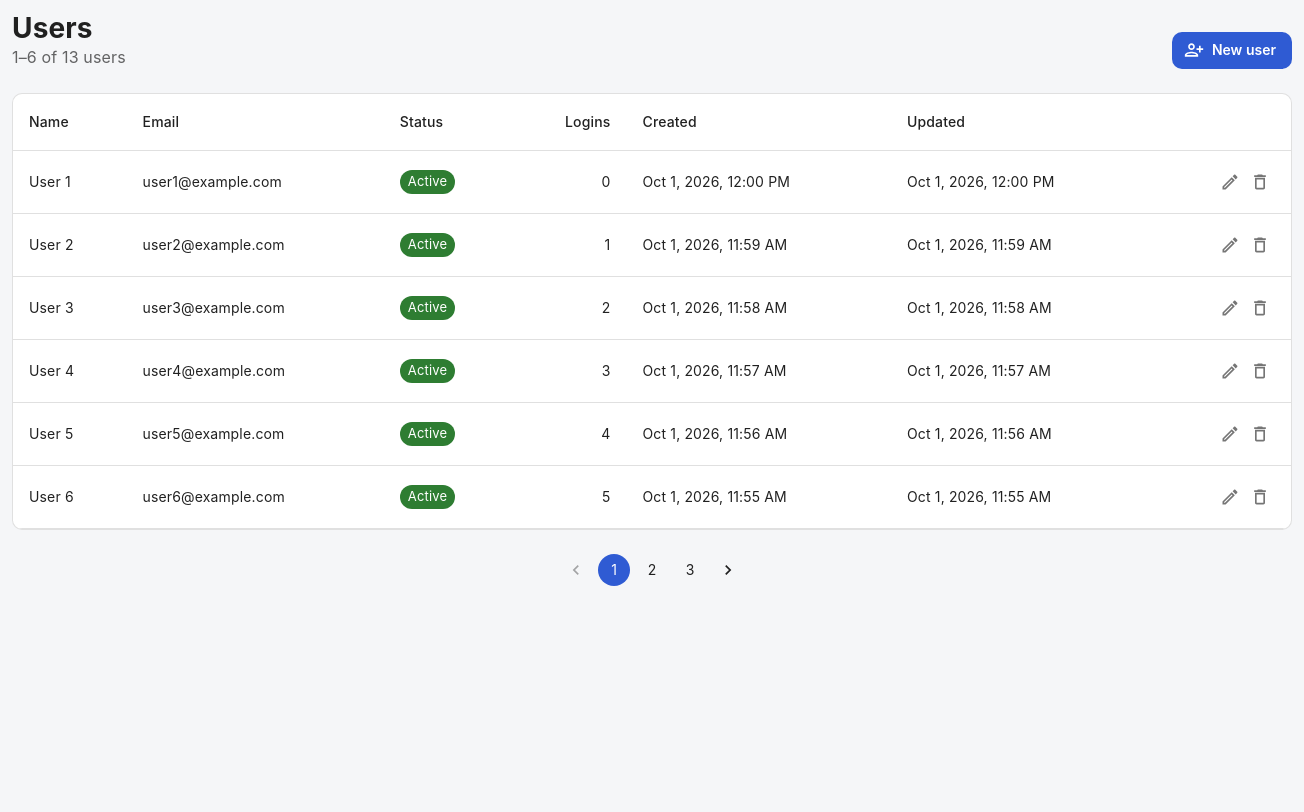
Scenario: UsersDashboard: table and pagination (T7.2) › C3: 13 users → pages of 6 / 6 / 1, page kept in ?page=
Expected: the text "1–6 of 13 users" is shown, 12,45 -> 126,69
Expected: the button named "Go to page 3" is shown, 674,554 -> 706,586
Click the button named "Go to page 2": (652, 570) 636,554 -> 668,586
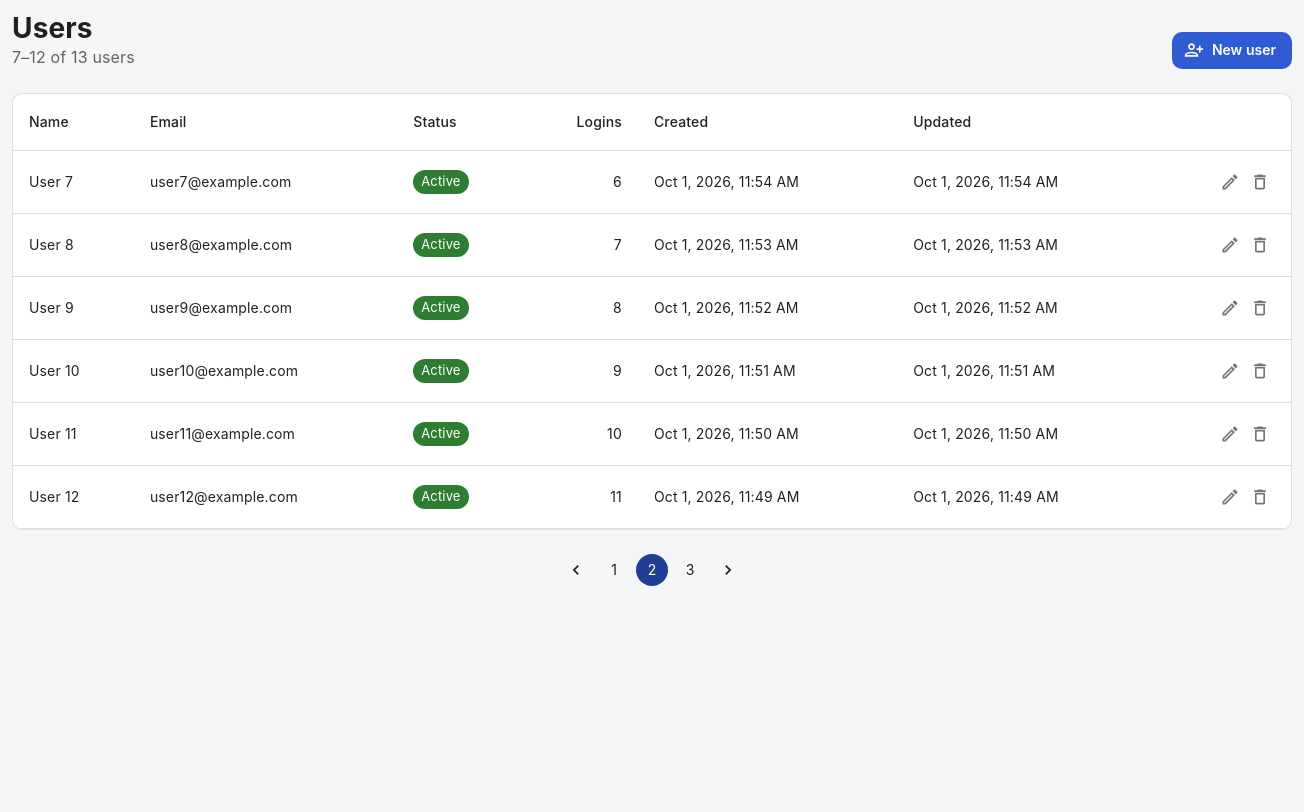
Expected: the text "User 7" is shown, 29,172 -> 73,192
Click the button named "Go to page 3": (690, 570) 674,554 -> 706,586
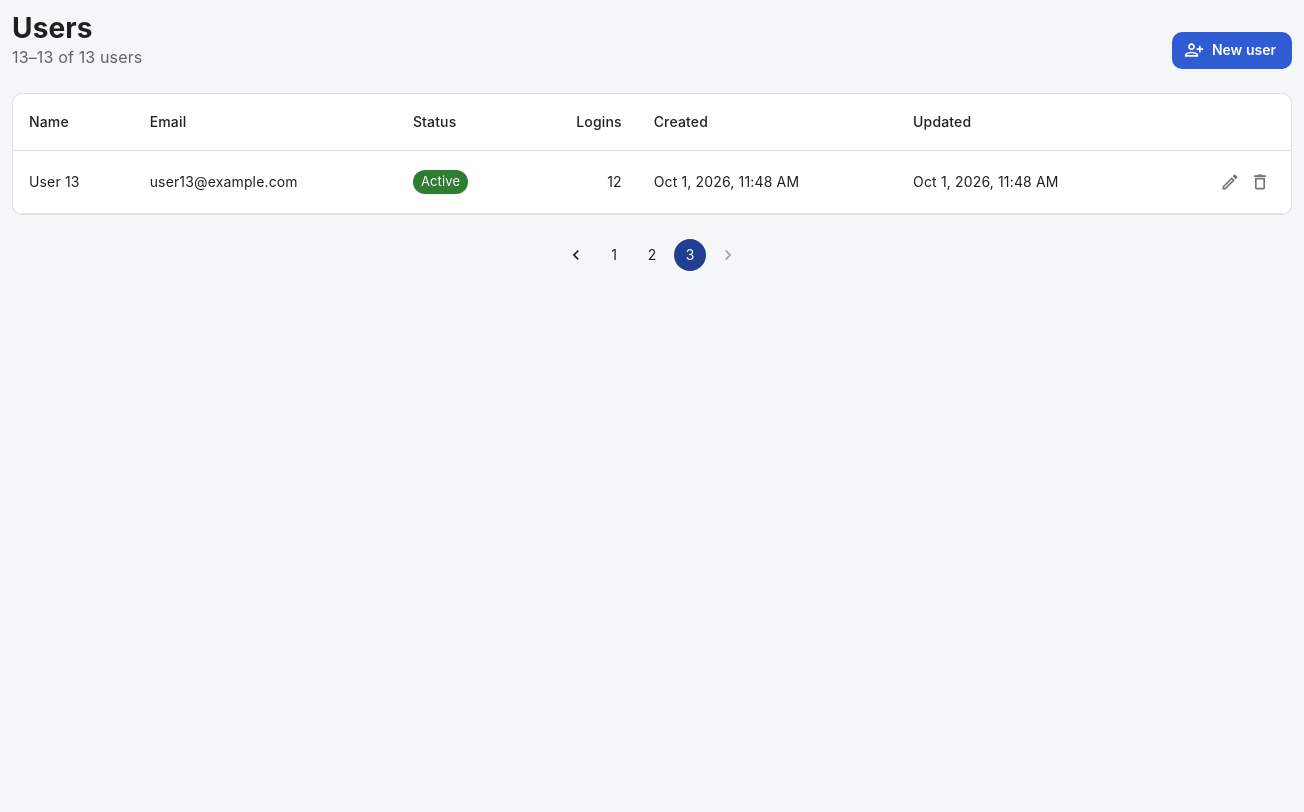
Expected: the text "13–13 of 13 users" is shown, 12,45 -> 142,69
